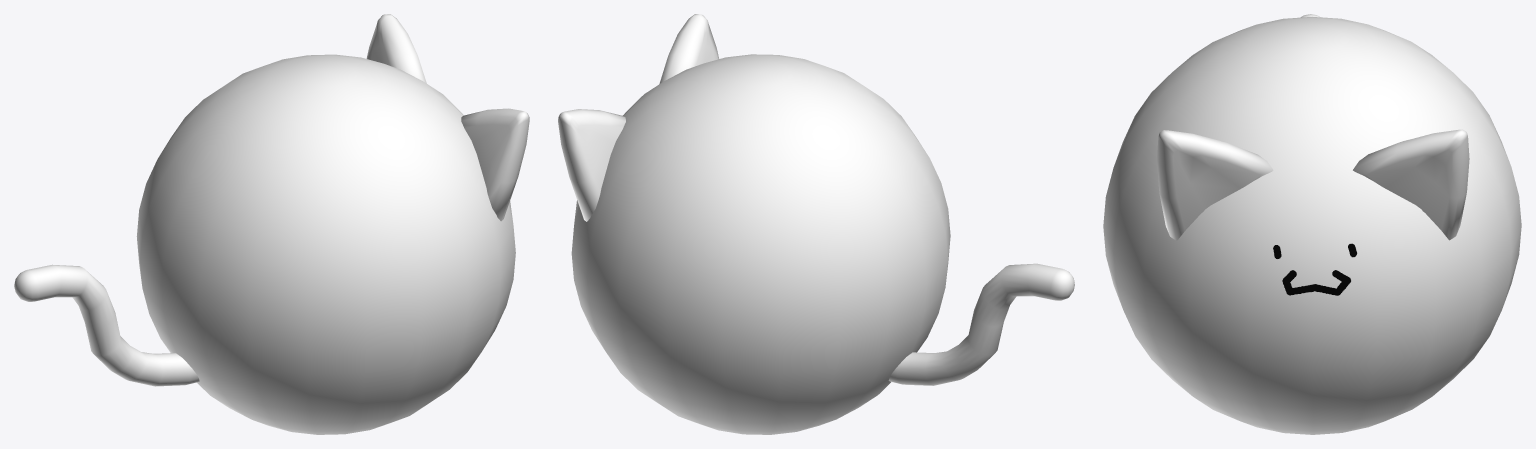
The model's file is cat_yuan.glb.
The picture shows the model from 3 angles, left to right: view 1: azimuth 30°, elevation 25°; view 2: azimuth 150°, elevation 25°; view 3: azimuth 270°, elevation 25°; orthographic projection. The views are drawn at different scales.
Parts seen in each view (by area): view 1: npc_cat2; view 2: npc_cat2; view 3: npc_cat2.
Boxes of the visible parts, x1=… form: npc_cat2: x1=14, y1=14, x2=529, y2=434; npc_cat2: x1=558, y1=14, x2=1074, y2=434; npc_cat2: x1=1103, y1=14, x2=1521, y2=434.
Bounding box in the file's own units: 0.2738 × 0.19 × 0.19.
Materials: 1 (1 with a texture image).
